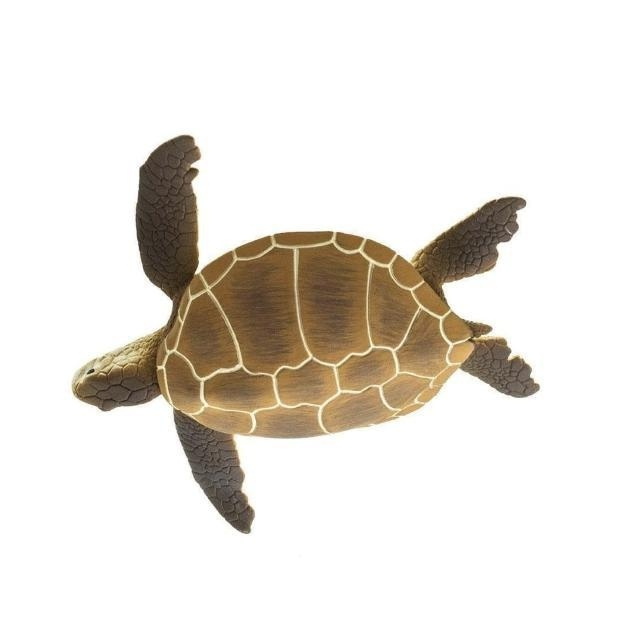turtle: (70, 133, 541, 536)
